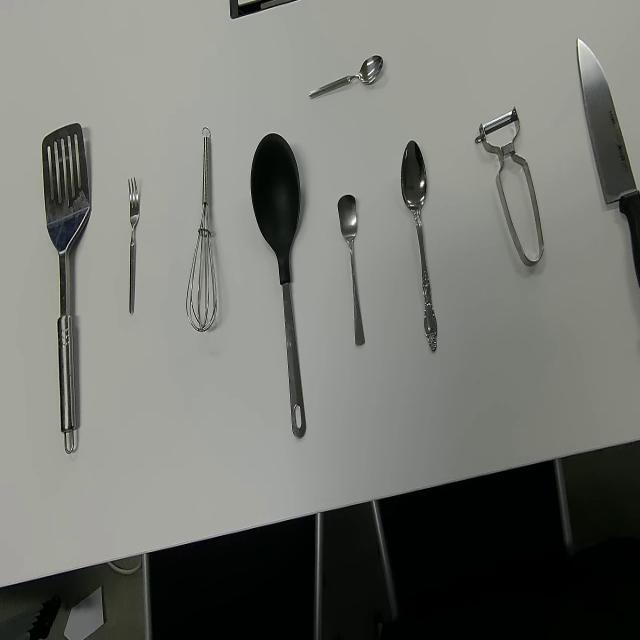Desert-Spoon: (399, 138, 438, 354)
Dinner-Fork: (127, 176, 141, 316)
Kitchen-Knife: (576, 37, 640, 290)
Peeler: (474, 105, 545, 268)
Serving-Spoon: (250, 130, 308, 440), (41, 120, 92, 457)
Tea-Spoon: (336, 192, 365, 348), (309, 52, 384, 102)
Whisk: (185, 125, 218, 333)
